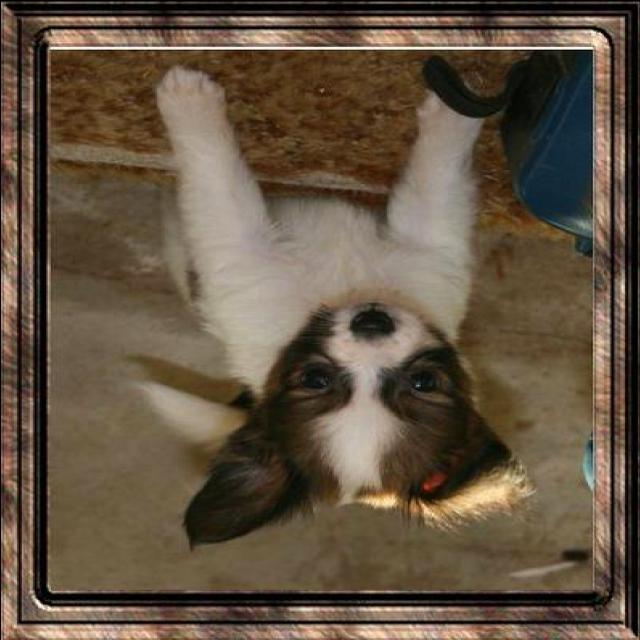papillon: (130, 64, 532, 548)
